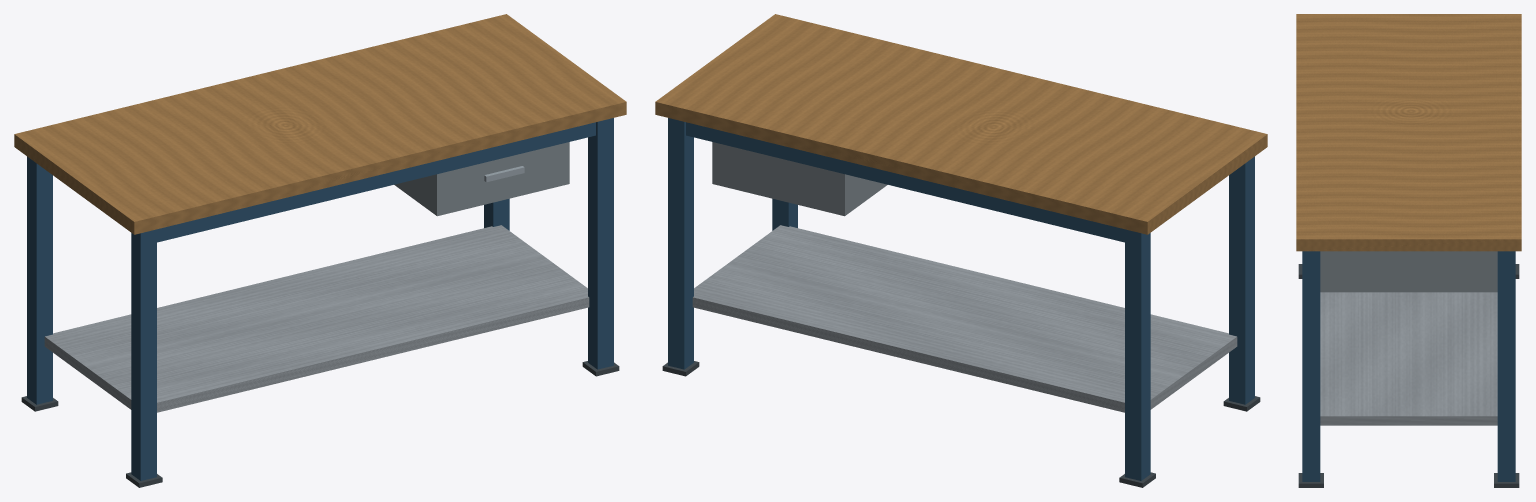
Rendered from industrial-workbench.glb.
3 renders of one model, left to right at view 1: azimuth 30°, elevation 25°; view 2: azimuth 150°, elevation 25°; view 3: azimuth 270°, elevation 25°, orthographic. The views are drawn at different scales.
Size of the model in its own units: 1.8 by 0.9375 by 0.76.
6 materials, 2 textured.
